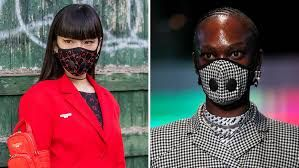with-mask: (189, 9, 267, 111), (49, 6, 105, 81)
